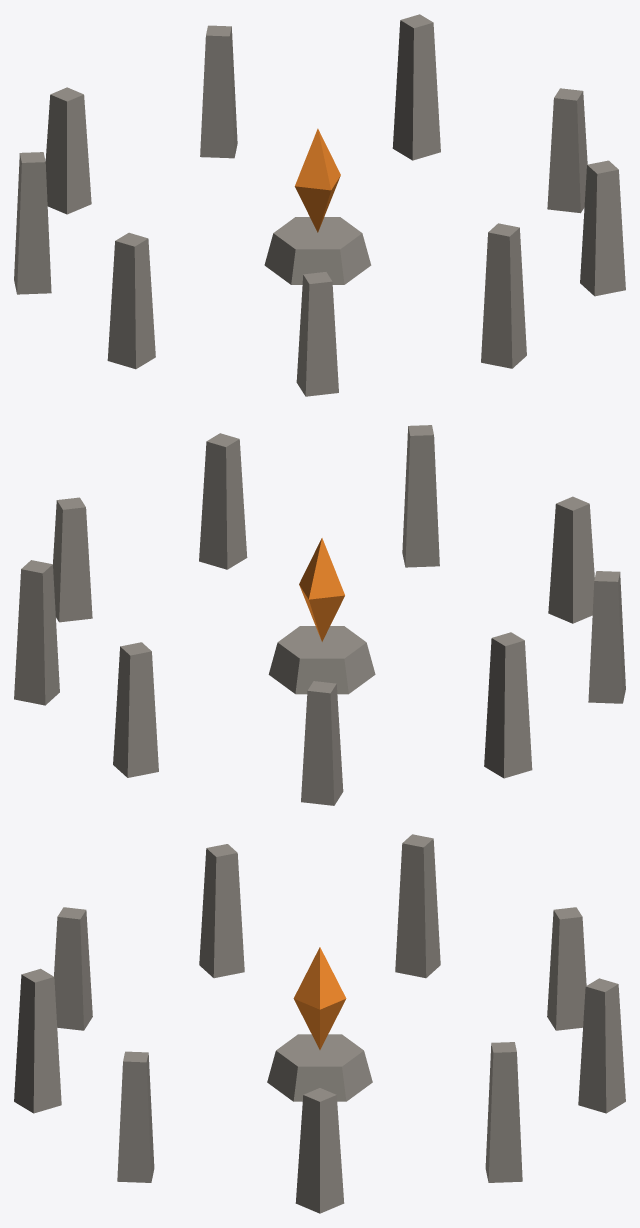
Rendered from stone_circle.obj.
The picture shows the model from 3 angles, top to bottom: view 1: azimuth 30°, elevation 25°; view 2: azimuth 150°, elevation 25°; view 3: azimuth 270°, elevation 25°; orthographic projection.
Bounding box in the file's own units: 13.67 × 3.4 × 13.89.
